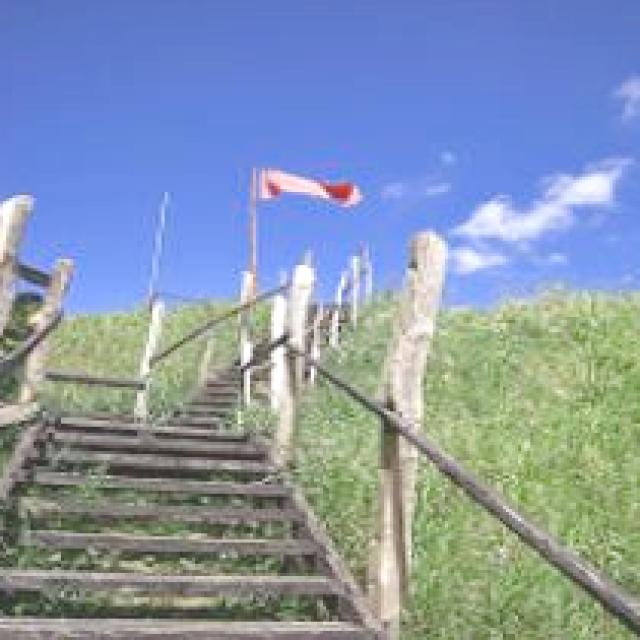upstair: (23, 376, 343, 640)
